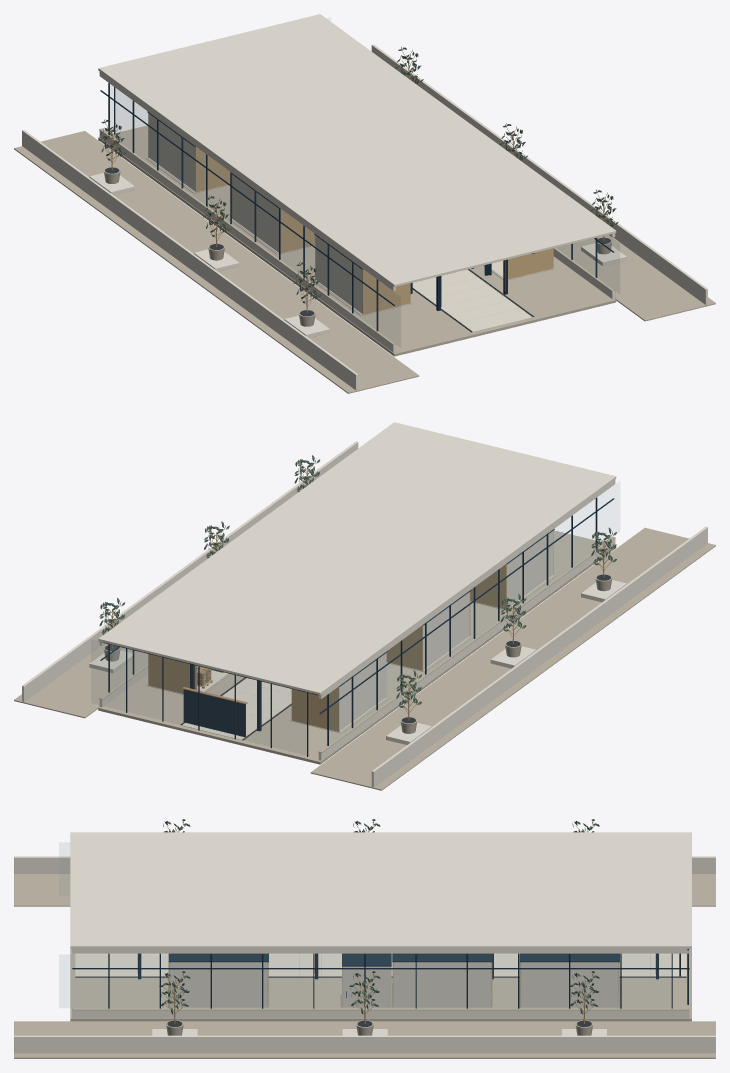
The model's file is cambodia.glb.
3 renders of one model, top to bottom at view 1: azimuth 30°, elevation 25°; view 2: azimuth 150°, elevation 25°; view 3: azimuth 270°, elevation 25°, orthographic. The views are drawn at different scales.
Visible parts, largest first — view 1: SHOWROOM · cambodia process promenade; view 2: SHOWROOM · cambodia process promenade; view 3: SHOWROOM · cambodia process promenade, Wind in the olive crown (×3).
Boxes of the visible parts, x1,y1,x2,y2 form: SHOWROOM · cambodia process promenade: (14, 14, 715, 393); SHOWROOM · cambodia process promenade: (14, 422, 715, 790); SHOWROOM · cambodia process promenade: (14, 830, 715, 1058); Wind in the olive crown (×3): (159, 971, 599, 1017).
Size of the model in its own units: 30.5 by 5.7 by 48.
